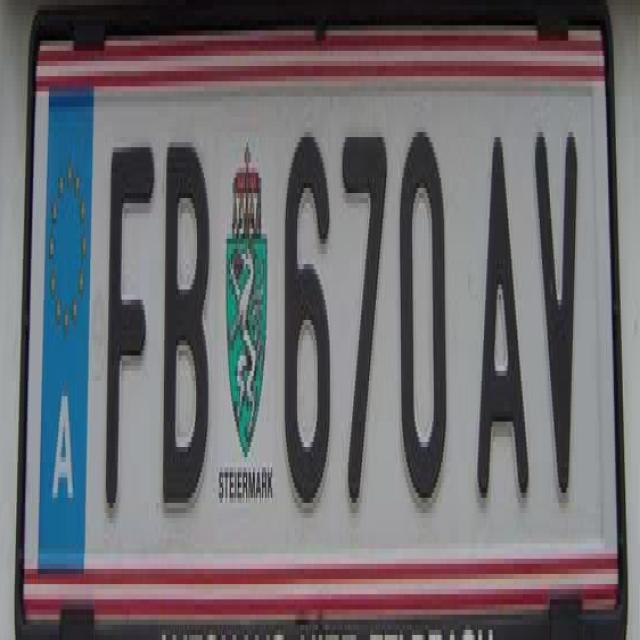Autre: (23, 9, 626, 623)
